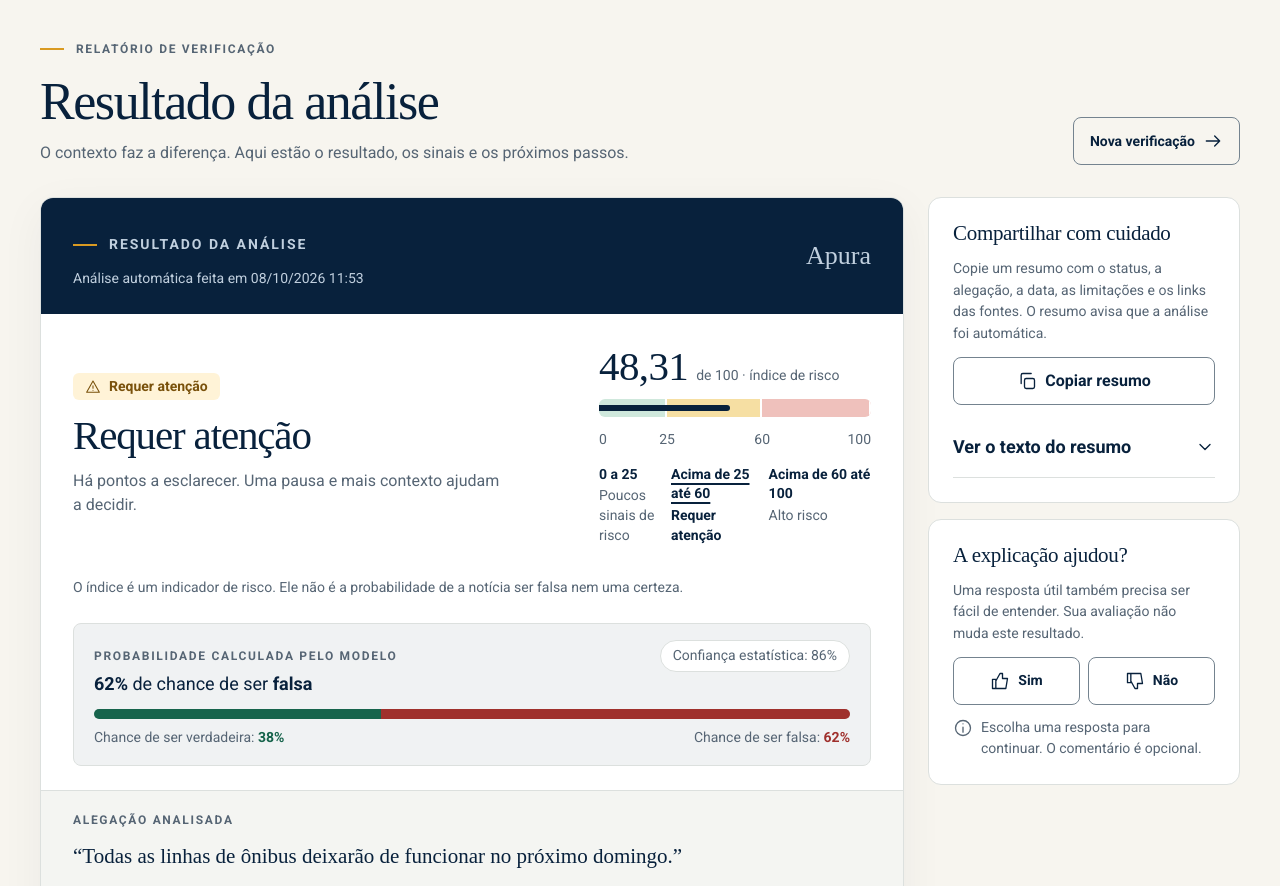
Test: RF19: feedback › envia só a avaliação, sem comentário, e agradece sem fingir que guardou
This screenshot has width=1280, height=886.
Click the button "Não".
click(1152, 681)  # box [1088,657,1215,705]
(page scrolled)
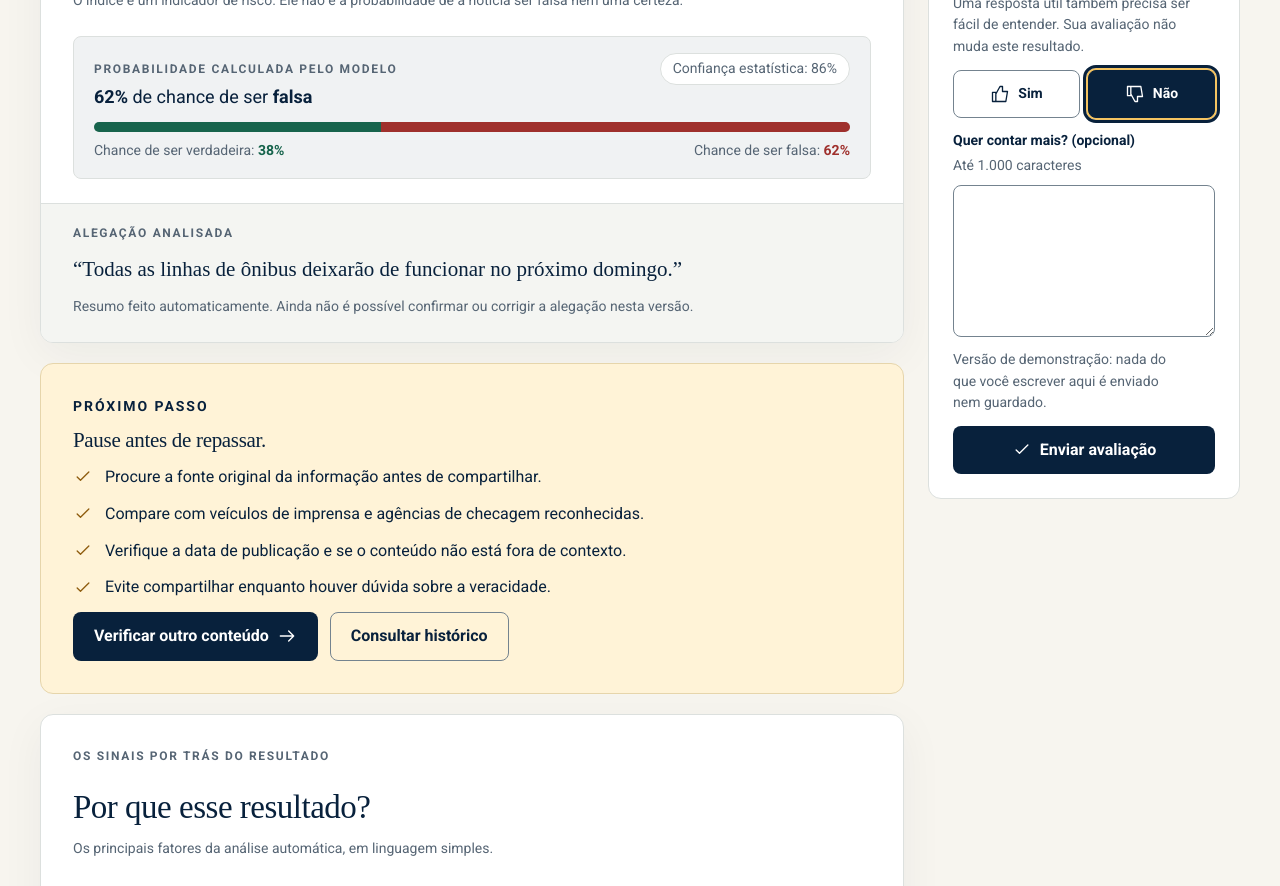
Click the button "Enviar avaliação".
click(1084, 450)  # box [953,426,1215,474]
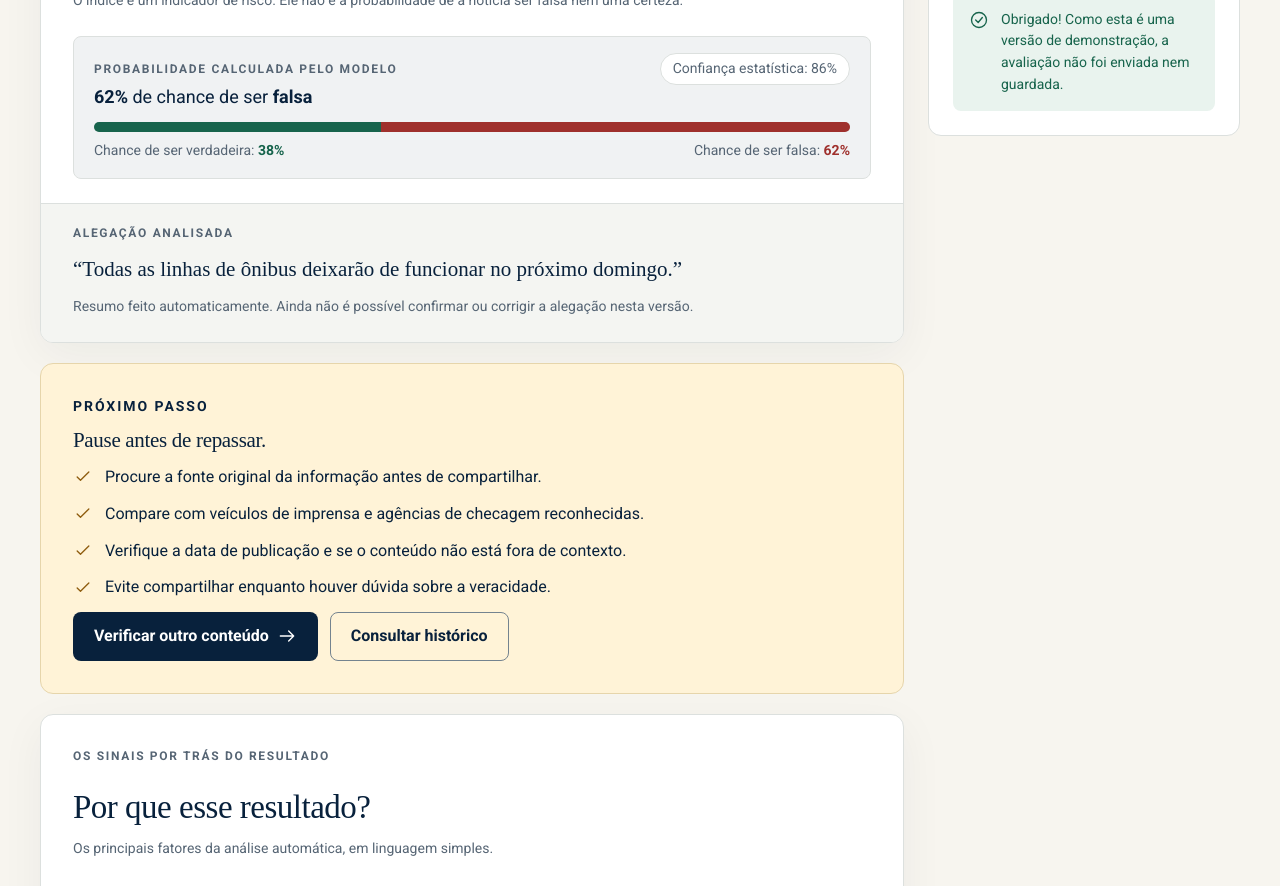
Expected: the text "Obrigado! Como esta é uma versão de demonstração, a avaliação não foi enviada nem guardada." is shown, [1001,10,1190,92]
